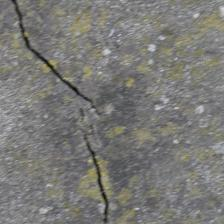Crack: (13, 5, 103, 115), (78, 137, 113, 222)
